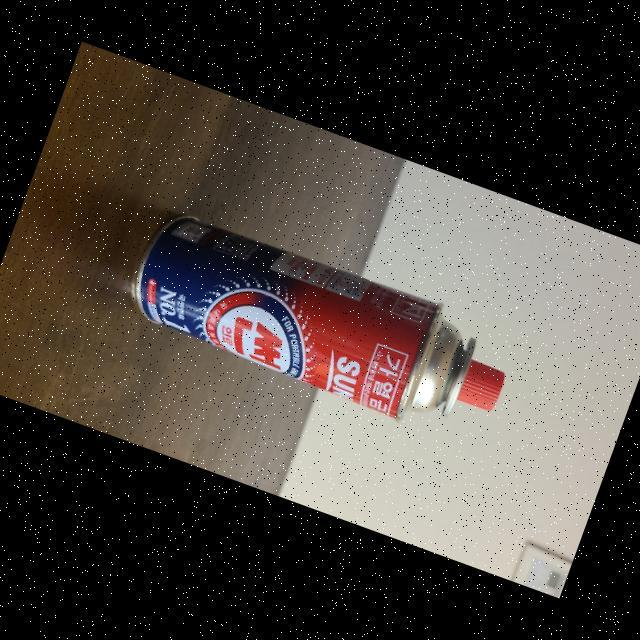chemical_spray_can: (90, 183, 534, 484)
